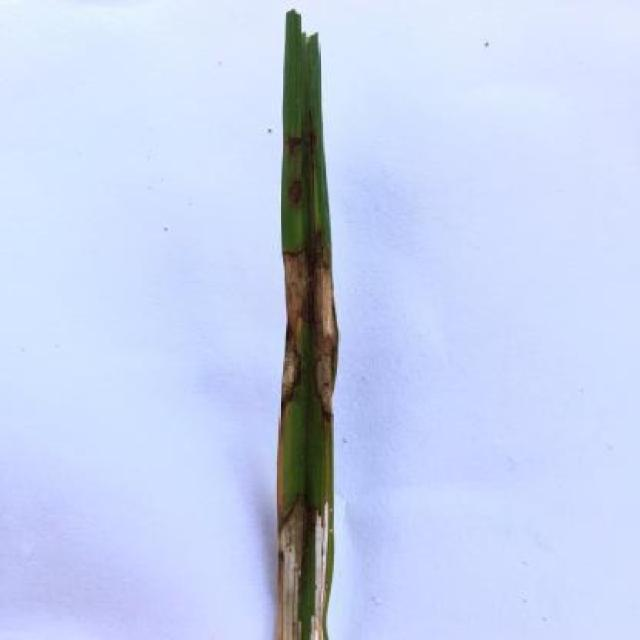Brown_Spot: (266, 0, 349, 640)
